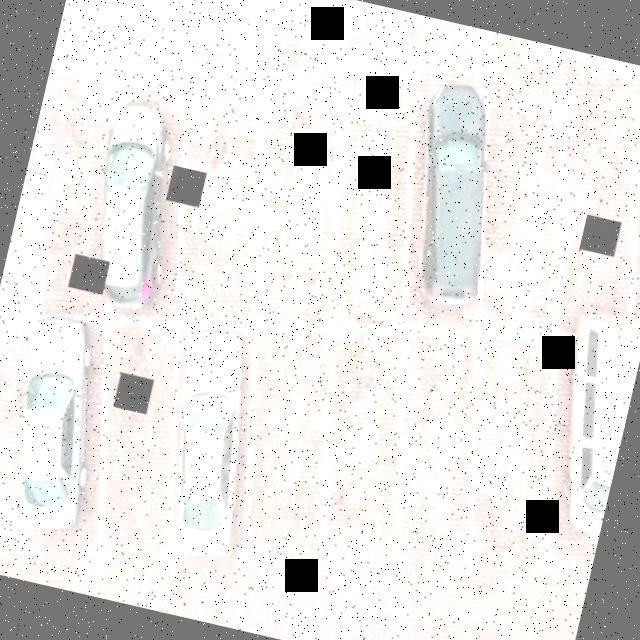car: (116, 302, 300, 588), (362, 53, 539, 330), (49, 63, 217, 318), (0, 293, 143, 576), (514, 300, 640, 551)
free: (429, 318, 592, 570), (281, 318, 442, 564), (210, 318, 368, 561), (57, 316, 211, 562), (358, 318, 512, 560), (220, 79, 370, 326), (292, 83, 448, 320), (144, 82, 298, 322), (444, 86, 596, 328), (2, 81, 140, 312), (519, 92, 640, 328), (0, 83, 79, 309), (0, 309, 66, 548), (596, 93, 640, 315)
